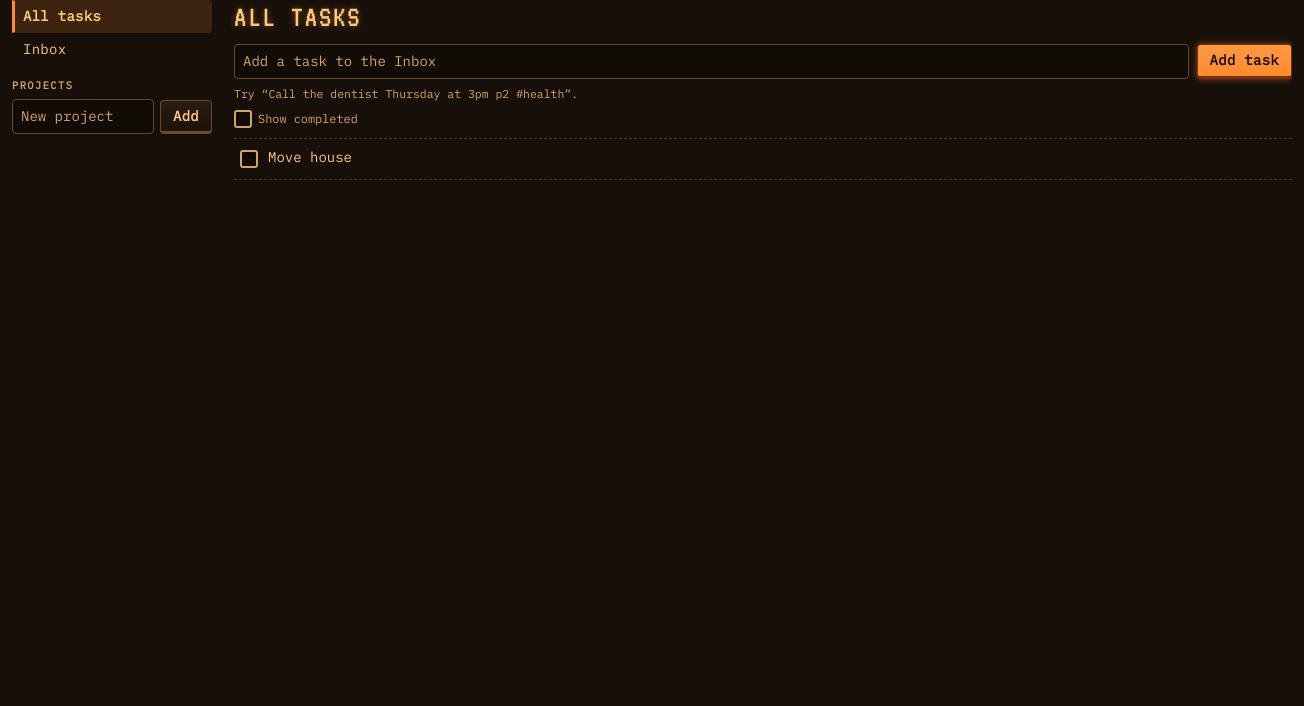
Test case: TasksView › adds steps to a task and counts them in the row
Click the button "Move house" at (310, 158), box [268, 147, 352, 168]
(page scrolled)
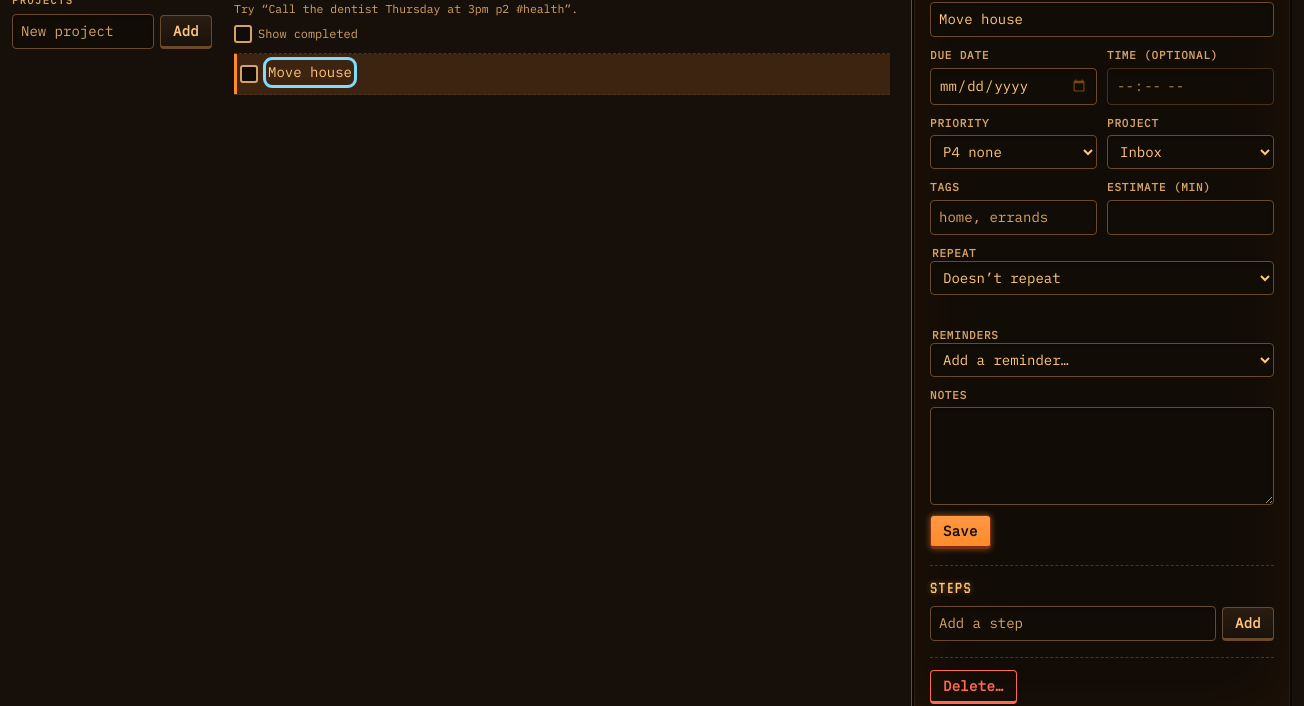
Type "Book van" into the field named "New step" at (1073, 624), box [930, 606, 1216, 641]
Then press Enter
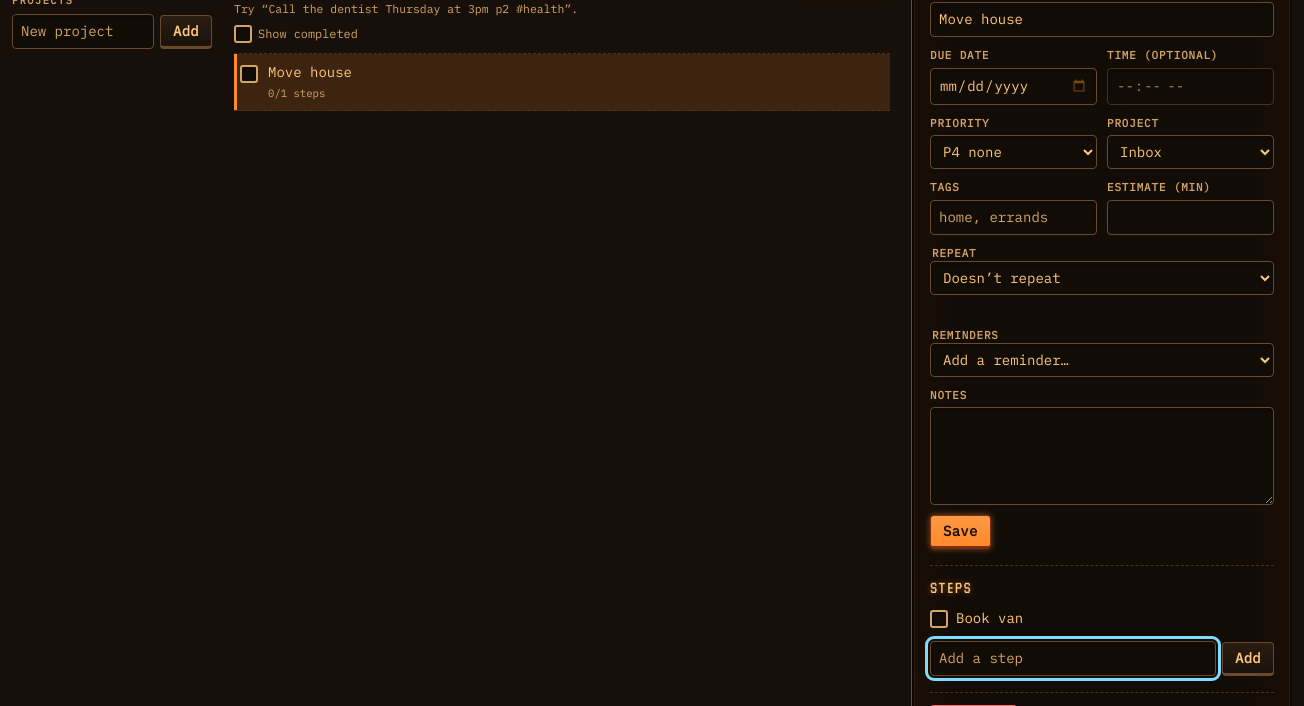
Type "Pack books" into the field named "New step" at (1073, 659), box [930, 641, 1216, 676]
Then press Enter
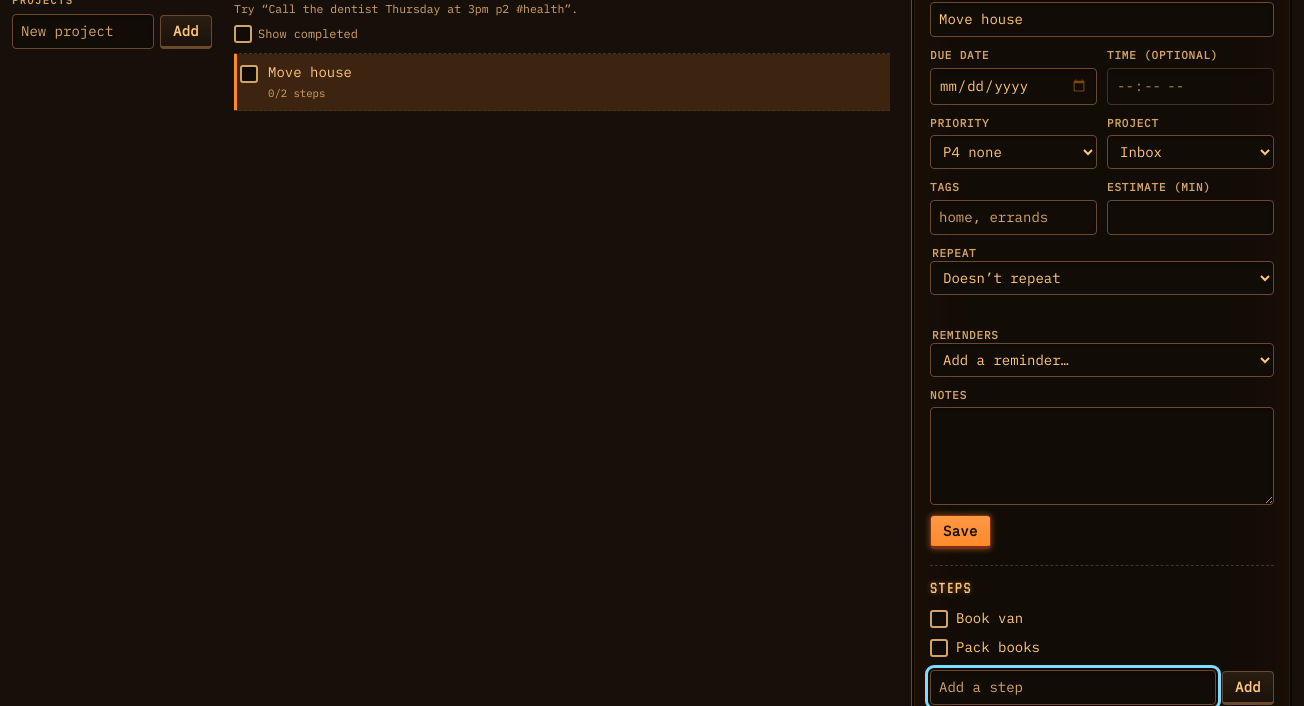
Click the checkbox labelled "Book van" at (939, 619), box [930, 610, 948, 628]
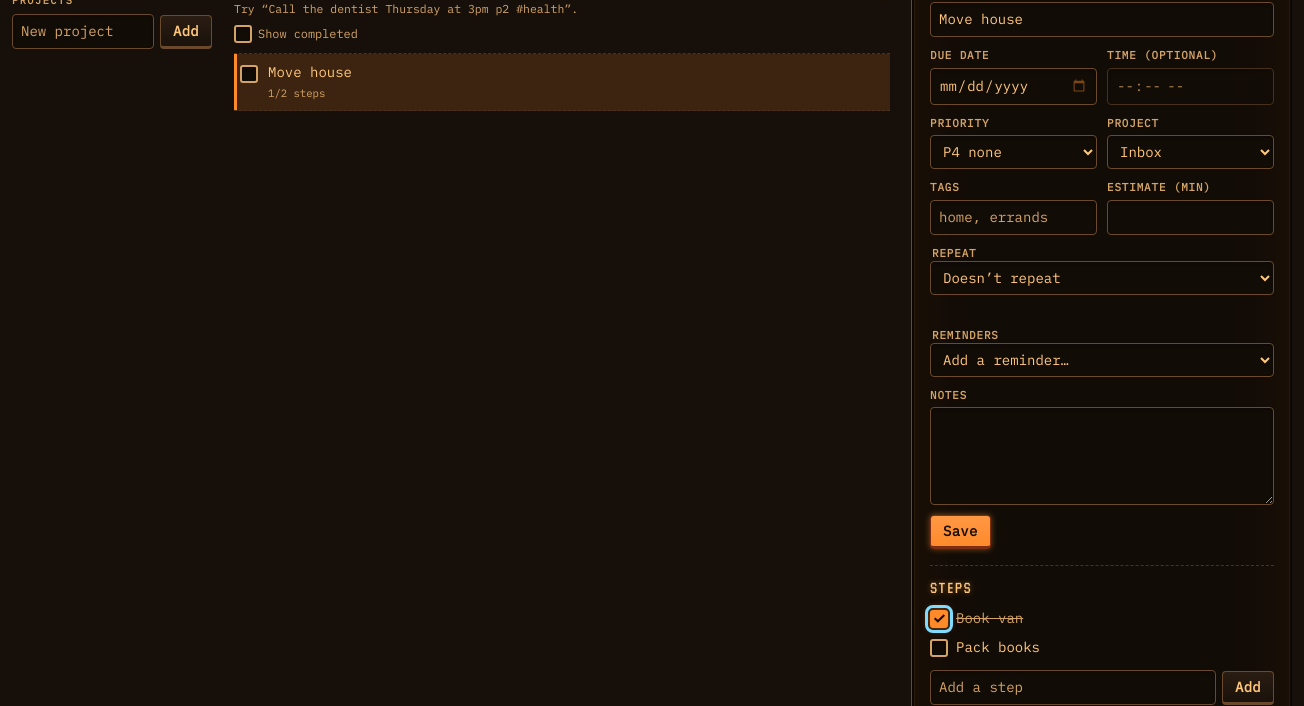
Check: the text "1/2 steps" is shown, box [268, 86, 325, 102]
